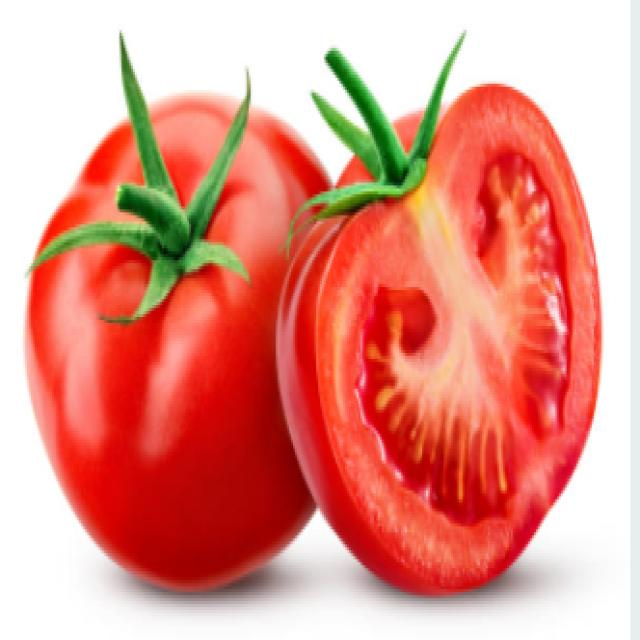Tomato: (283, 49, 612, 599), (21, 29, 328, 608)
